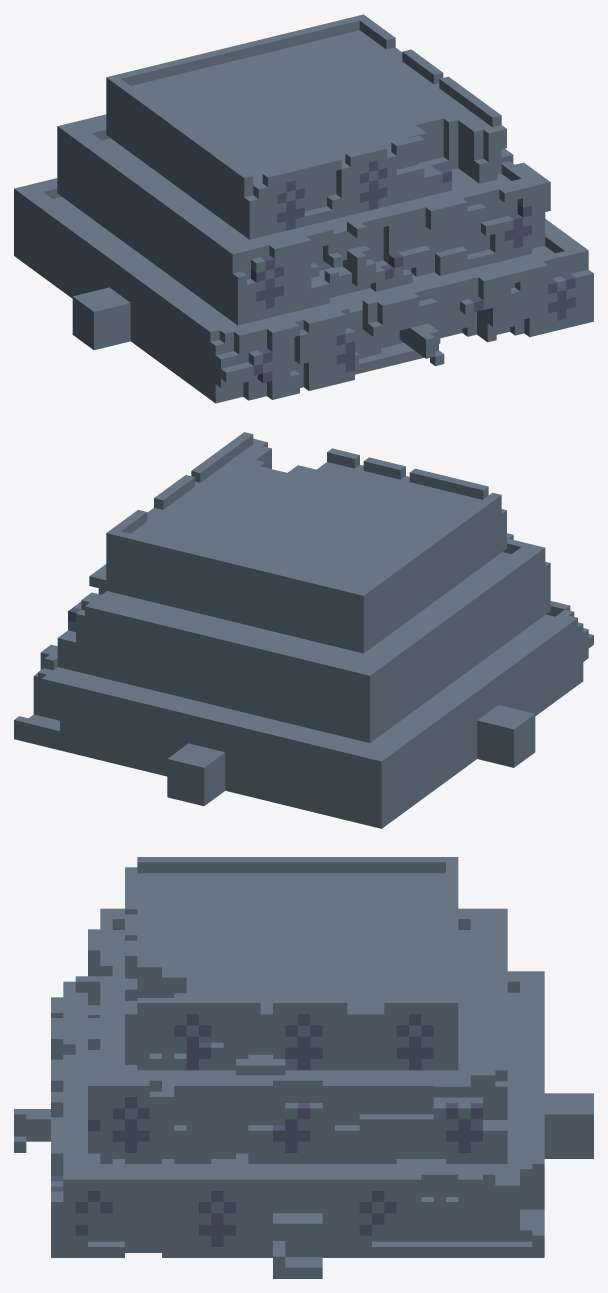
Rendered from Anubis_25-2.obj.
The picture shows the model from 3 angles, top to bottom: view 1: azimuth 30°, elevation 25°; view 2: azimuth 150°, elevation 25°; view 3: azimuth 270°, elevation 25°; orthographic projection. The views are drawn at different scales.
Size of the model in its own units: 4.8 by 2 by 4.7.
Materials: 1 (1 with a texture image).
